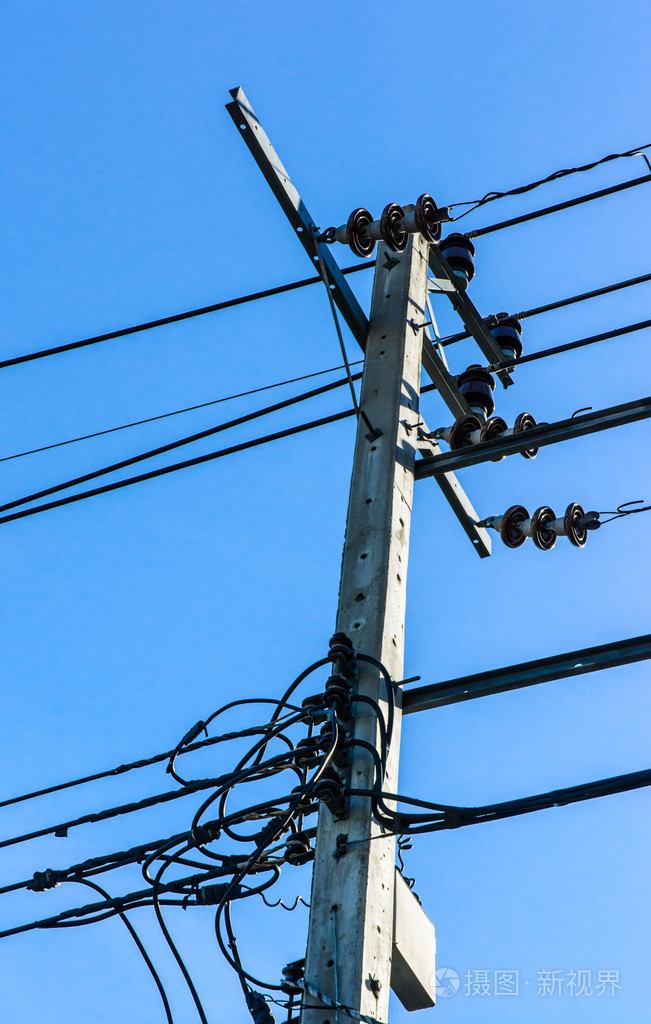insulator: (347, 192, 448, 260), (444, 411, 540, 463), (500, 499, 588, 551)
